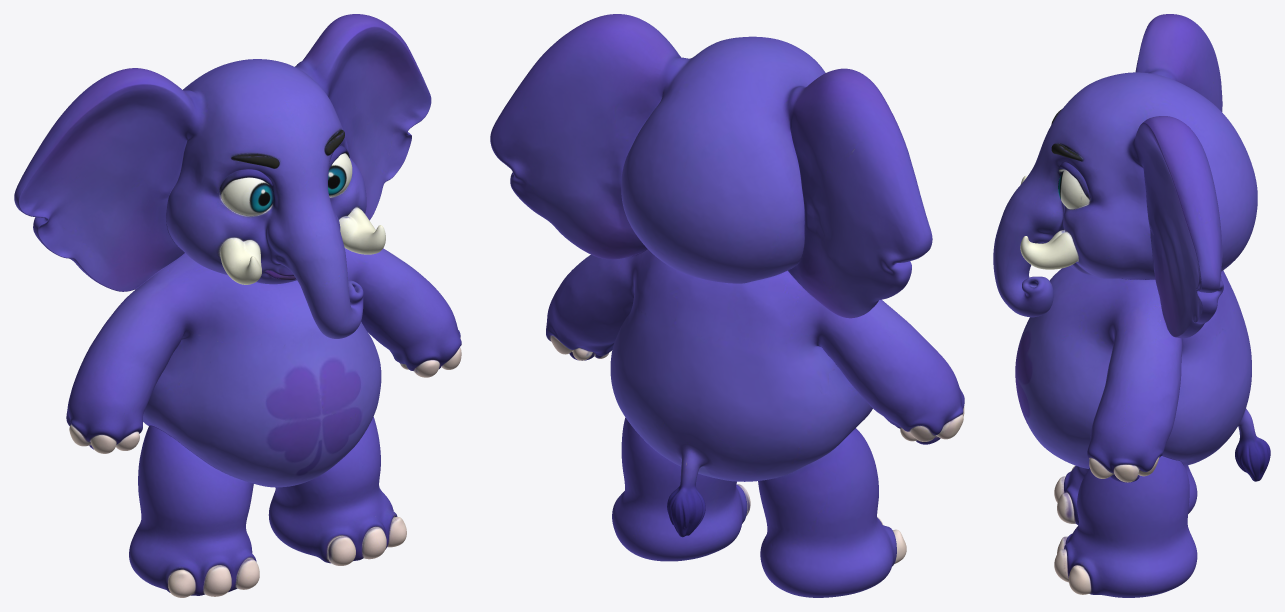
Rendered from king-rico.glb.
3 renders of one model, left to right at view 1: azimuth 30°, elevation 25°; view 2: azimuth 150°, elevation 25°; view 3: azimuth 270°, elevation 25°, orthographic. The views are drawn at different scales.
Size of the model in its own units: 1.66 by 1.9 by 1.01.
Materials: 1 (1 with a texture image).
